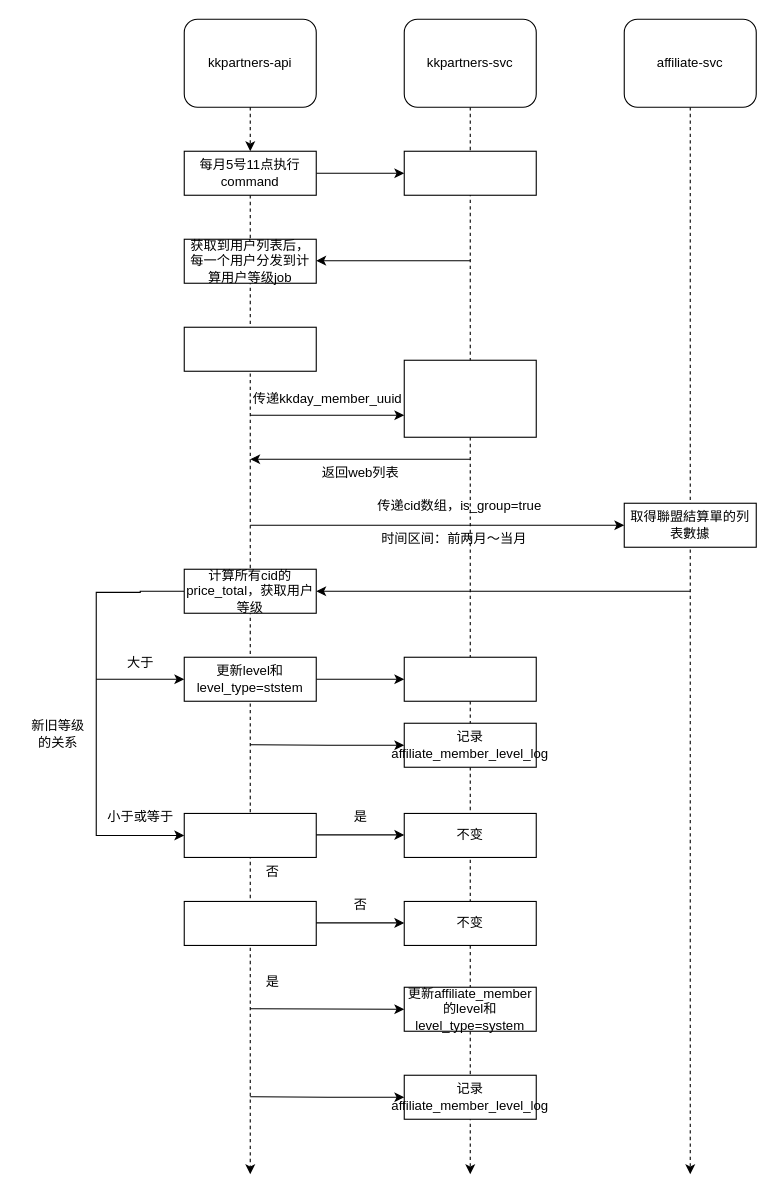
Image size: 776x1202. Some labels were removed from this diagram. Each missing label, with the centre of its shape:
更新affiliate_member信息: point 469,678
获取affiliate_member列表: point 469,172
获取kkday_member_uuid下的Earn channel&approved的web: point 469,398
进入job: point 249,348
验证level_type是否为mkt: point 249,834
验证用户create_date是否>=3个月: point 249,922
